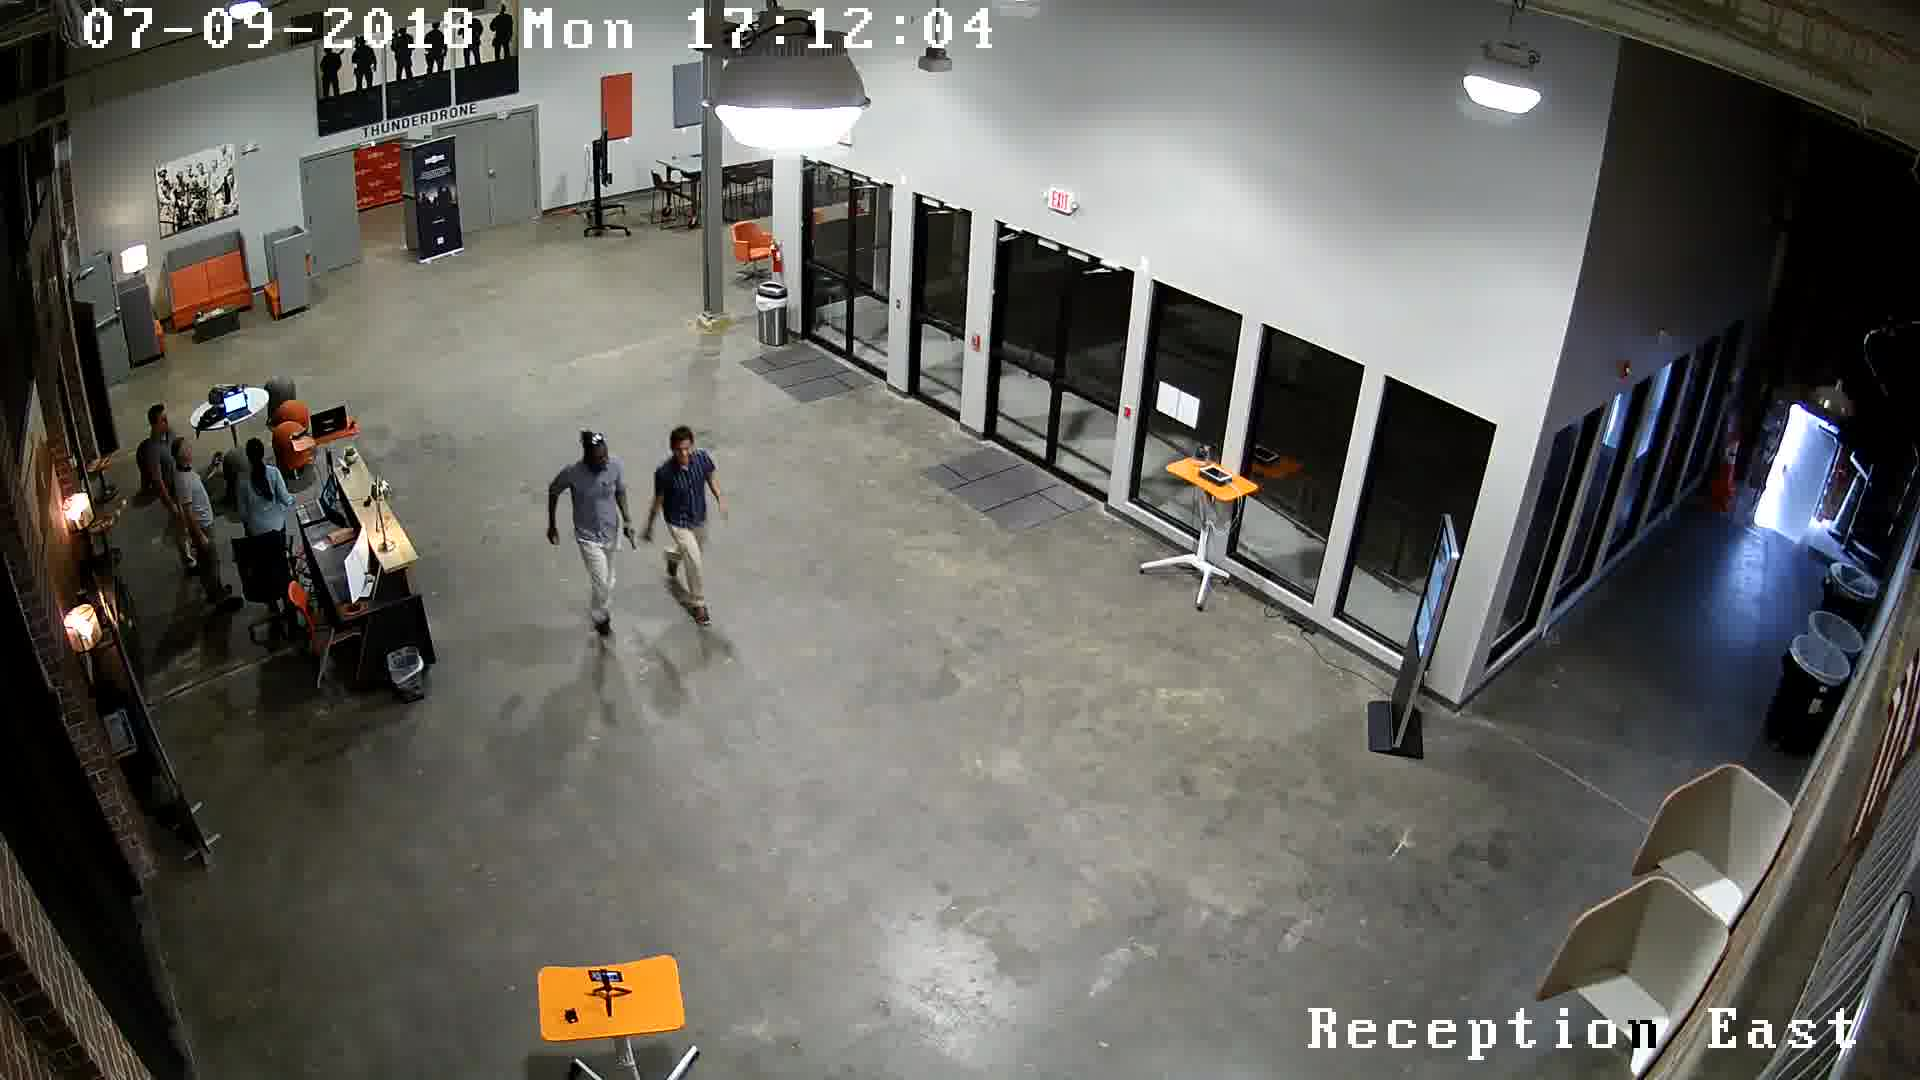pistol: (618, 520, 638, 564), (640, 516, 659, 554)
